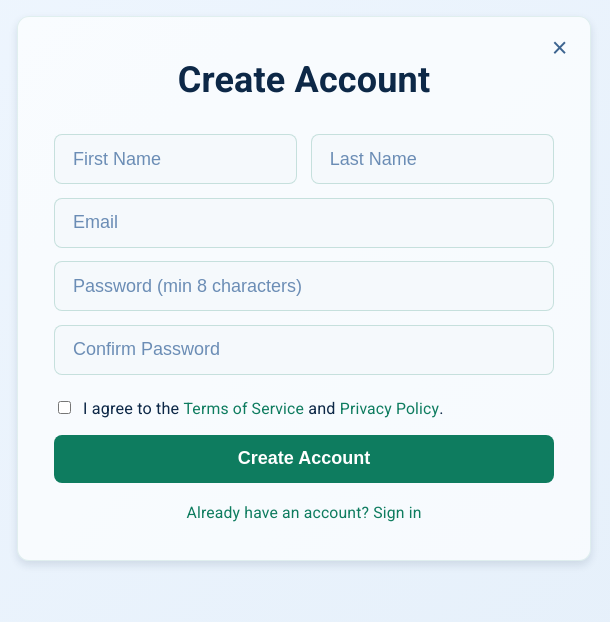
Test: SignupPanel › shows generic error on 409 for existing email account
The image size is (610, 622).
Type "John" into the field with placeholder "First Name" at (176, 159), box top-left (54, 134), bottom-right (297, 184)
Type "Doe" into the field with placeholder "Last Name" at (432, 159), box top-left (311, 134), bottom-right (554, 184)
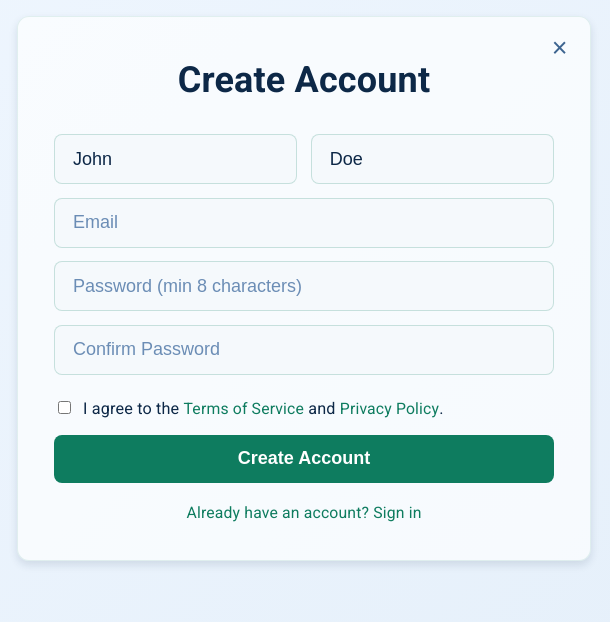
Type "john@test.com" into the field with placeholder "Email" at (304, 222), box top-left (54, 198), bottom-right (554, 248)
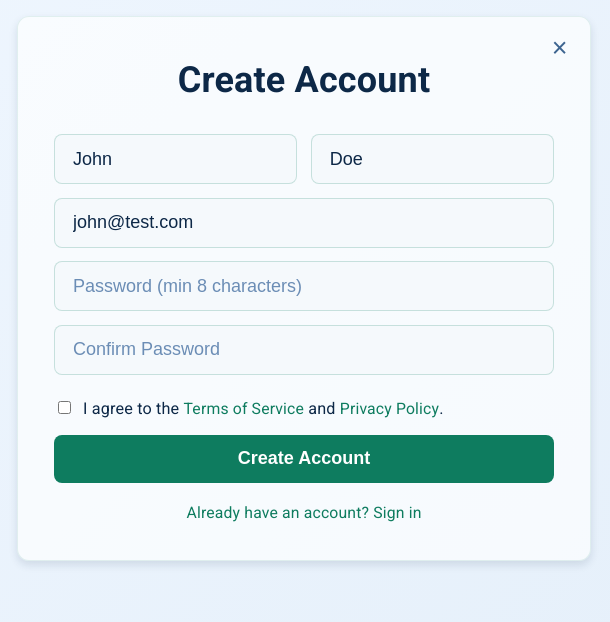
Type "password123" into the password field with placeholder "Password (min 8 characters)" at (304, 286), box top-left (54, 261), bottom-right (554, 311)
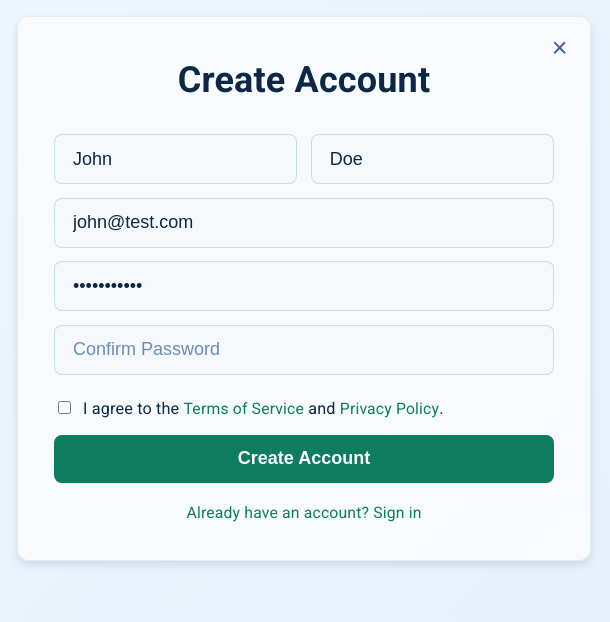
Type "password123" into the password field with placeholder "Confirm Password" at (304, 350), box top-left (54, 324), bottom-right (554, 374)
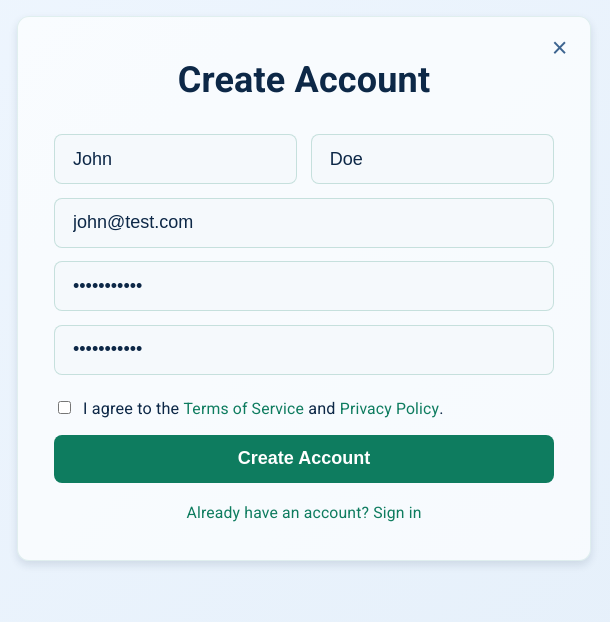
Click the checkbox named "Accept Terms of Service" at (64, 407), box top-left (58, 401), bottom-right (71, 414)
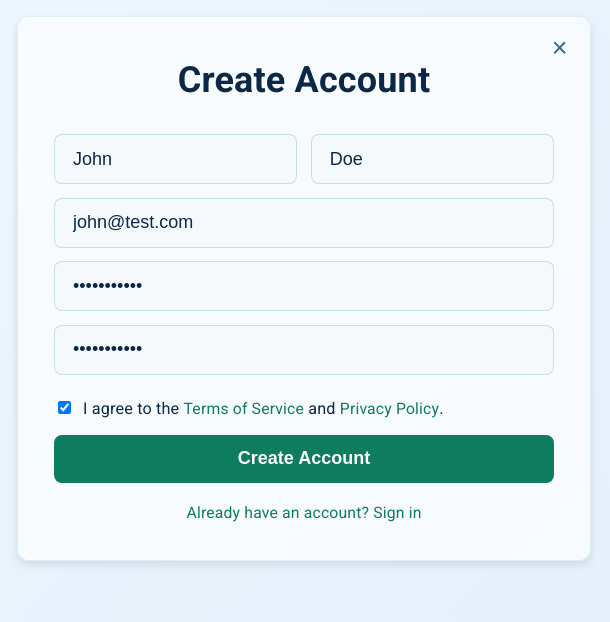
Click the button "Create Account" at (304, 459), box top-left (54, 435), bottom-right (554, 483)
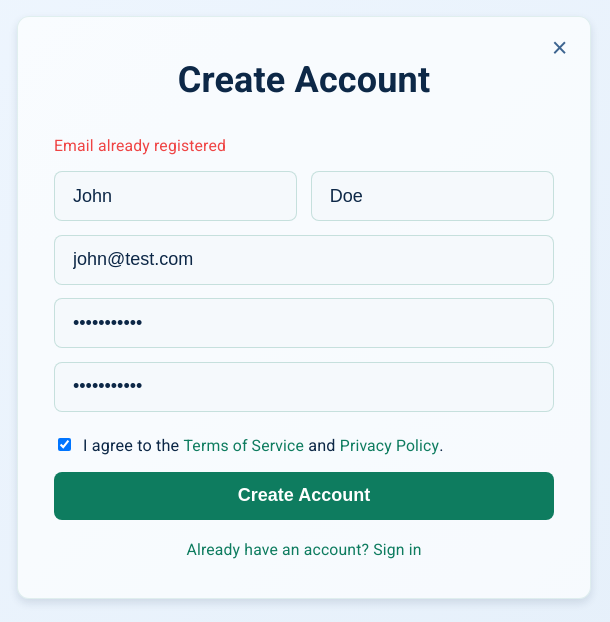
Expected: the text "Email already registered" is shown, top-left (54, 136), bottom-right (226, 155)
